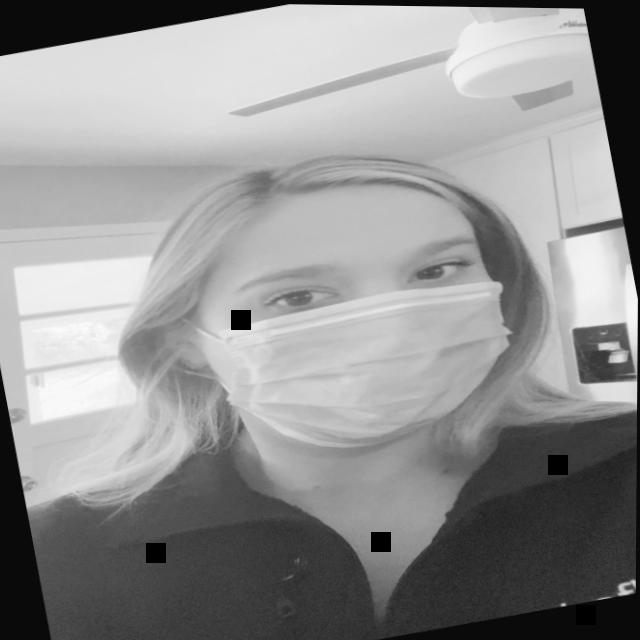Mask: (152, 148, 534, 481)
